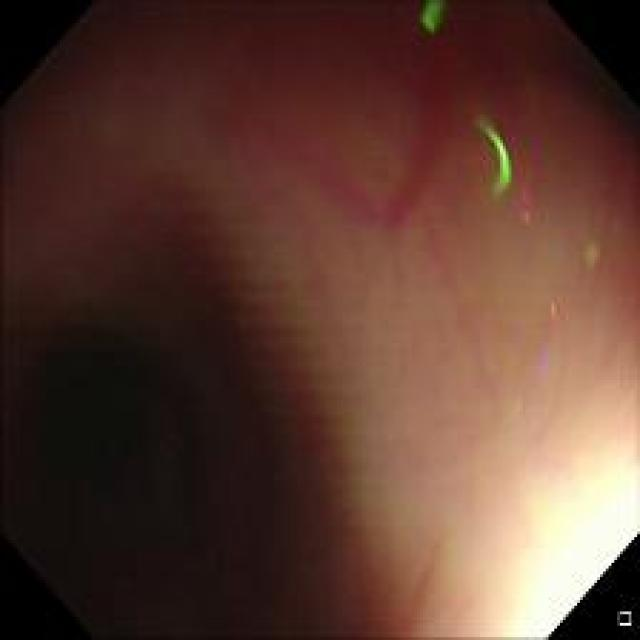color misalignment: (474, 112, 540, 221), (534, 288, 565, 391), (580, 232, 618, 289), (418, 1, 448, 32)
contrast: (24, 251, 365, 619)
saturation: (512, 484, 630, 618)
